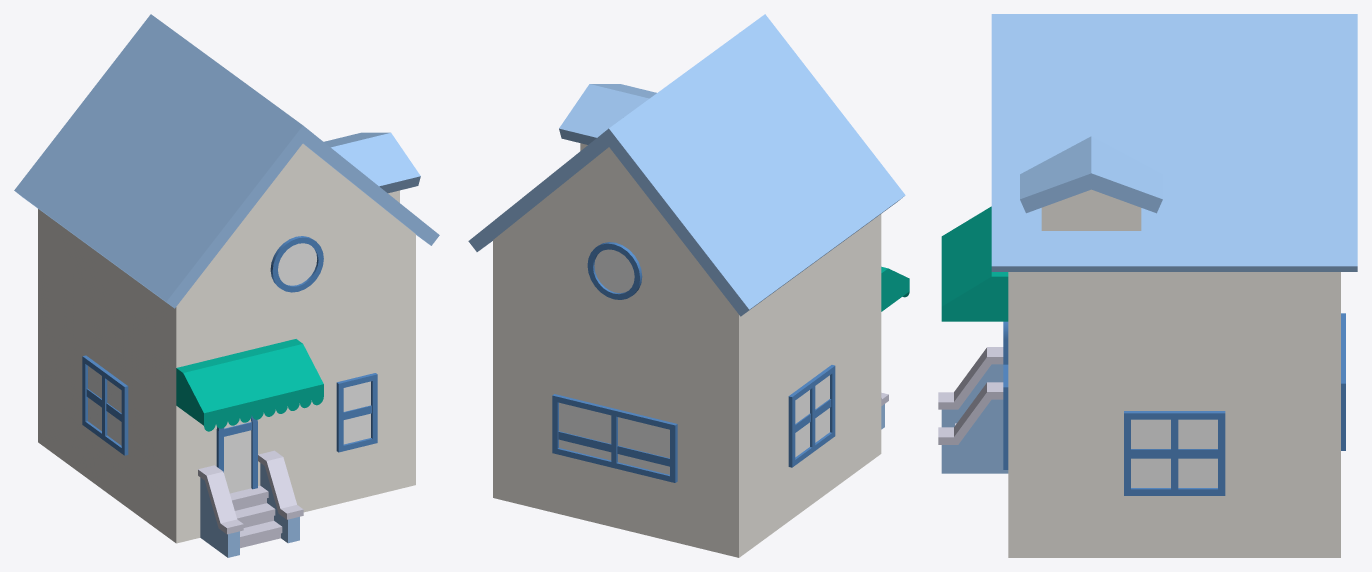
Rendered from Final Shatter House 4.fbx.
3 views of the same model, side by side, from view 1: azimuth 30°, elevation 25°; view 2: azimuth 150°, elevation 25°; view 3: azimuth 270°, elevation 25° (orthographic). The views are drawn at different scales.
Visible parts, largest first — view 1: polySurface183, polySurface240, polySurface241; view 2: polySurface183, polySurface241, polySurface240; view 3: polySurface183, polySurface241, polySurface240.
Part boxes in pixels (x1,y1,x2,y2): polySurface183: (14, 14, 439, 357); polySurface240: (71, 286, 415, 557); polySurface241: (38, 328, 86, 477); polySurface183: (468, 14, 905, 440); polySurface241: (493, 367, 789, 557); polySurface240: (773, 263, 909, 520); polySurface183: (991, 14, 1357, 404); polySurface241: (1023, 337, 1345, 557); polySurface240: (938, 206, 1075, 557).
Size of the model in its own units: 2.28 by 3.14 by 2.52.
